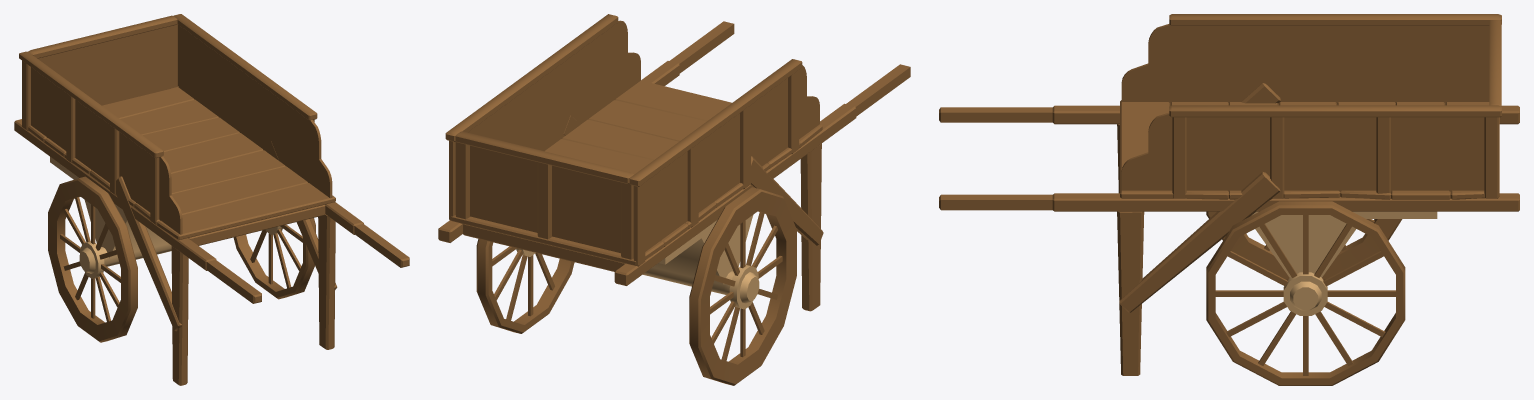
File: car_09.gltf
3 renders of one model, left to right at view 1: azimuth 30°, elevation 25°; view 2: azimuth 150°, elevation 25°; view 3: azimuth 270°, elevation 25°, orthographic. The views are drawn at different scales.
Visible parts, largest first — view 1: body, wheel_2, wheel_7, wheel_0, wheel_4, wheel_3, wheel_8; view 2: body, wheel_2, wheel_7, wheel_0, wheel_4, wheel_3, wheel_8, wheel_9, wheel_10; view 3: body, wheel_5, wheel_1, wheel_11, wheel_3, wheel_9.
Part boxes in pixels (x1,y1,x2,y2): body: (14,14,409,385); wheel_2: (48,180,128,341); wheel_7: (79,176,137,341); wheel_0: (57,196,104,324); wheel_4: (233,237,305,297); wheel_3: (236,234,284,291); wheel_8: (59,178,130,342); body: (438,14,910,360); wheel_2: (701,192,796,384); wheel_7: (690,187,759,384); wheel_0: (728,211,786,364); wheel_4: (488,241,574,332); wheel_3: (514,258,571,324); wheel_8: (698,189,783,385); wheel_9: (477,239,516,332); wheel_10: (485,241,542,333); body: (939,14,1519,375); wheel_5: (1208,208,1403,384); wheel_1: (1208,211,1400,279); wheel_11: (1206,205,1405,385); wheel_3: (1215,313,1395,378); wheel_9: (1206,201,1405,270).
Size of the model in its own units: 1.17 by 1.27 by 2.49.
Materials: 1 (1 with a texture image).
